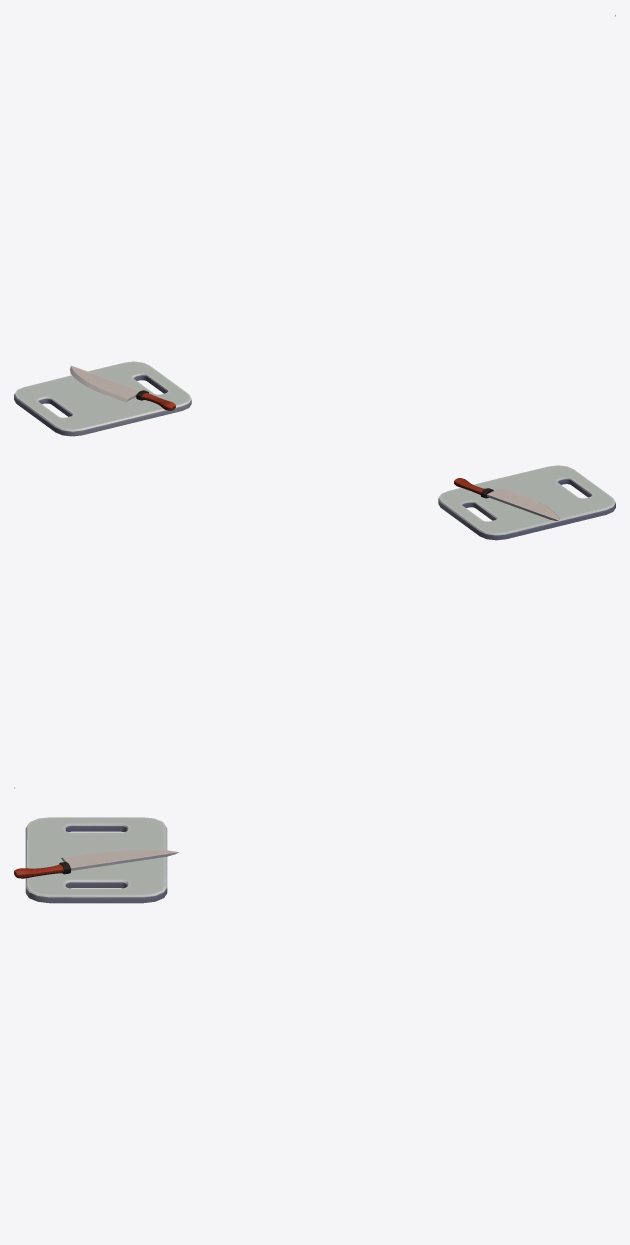
The model's file is cuttingBoard.glb.
3 views of the same model, one above another, from view 1: azimuth 30°, elevation 25°; view 2: azimuth 210°, elevation 25°; view 3: azimuth 270°, elevation 25° (orthographic). The views are drawn at different scales.
Visible parts, largest first — view 1: cuttingBoard; view 2: cuttingBoard; view 3: cuttingBoard.
Part boxes in pixels (<box>): cuttingBoard: <box>14,14,615,436</box>; cuttingBoard: <box>14,465,615,788</box>; cuttingBoard: <box>14,817,178,903</box>.
Bounding box in the file's own units: 9.38 × 0.5955 × 5.09.
1 material, 1 textured.
